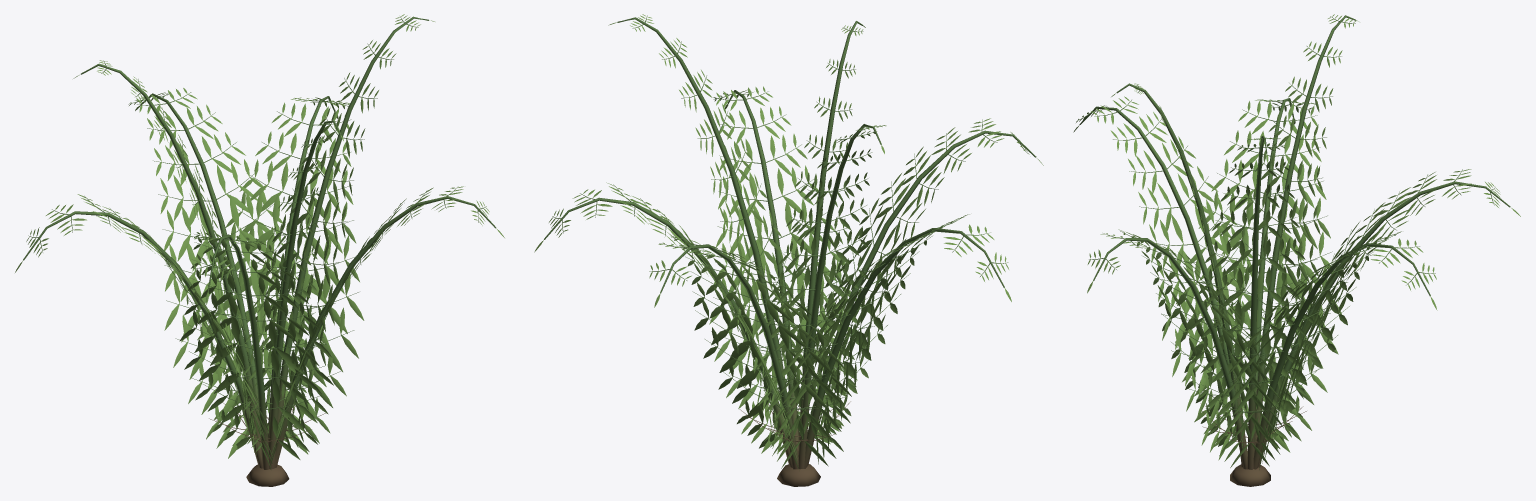
File: Fern.glb
The picture shows the model from 3 angles, left to right: view 1: azimuth 30°, elevation 25°; view 2: azimuth 150°, elevation 25°; view 3: azimuth 270°, elevation 25°; orthographic projection. The views are drawn at different scales.
Parts seen in each view (by area): view 1: Plant; view 2: Plant; view 3: Plant.
Boxes of the visible parts, x1,y1,x2,y2 form: Plant: (15,14,504,486); Plant: (534,14,1043,486); Plant: (1073,14,1520,486).
Size of the model in its own units: 0.7816 by 0.7638 by 0.7501.
